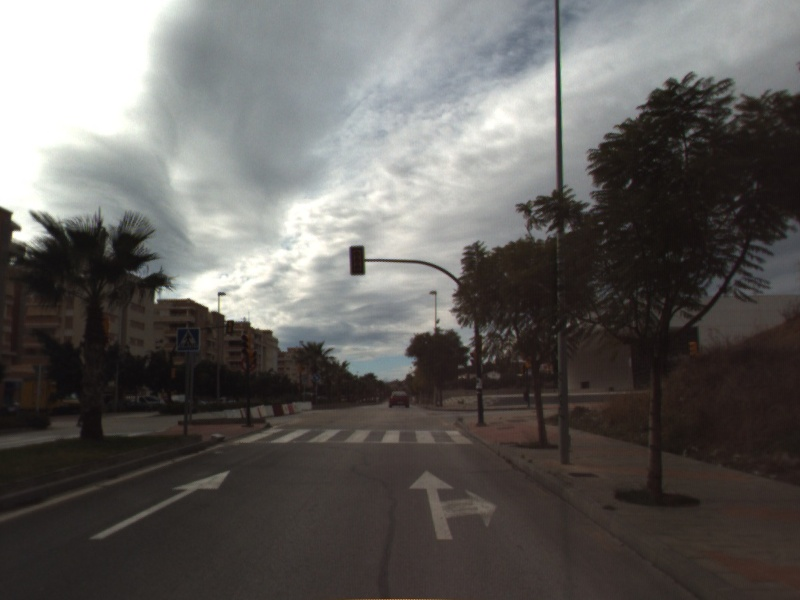STRAIGHT: (87, 468, 232, 542)
STRAIGHT_RIGHT: (406, 468, 499, 542)
